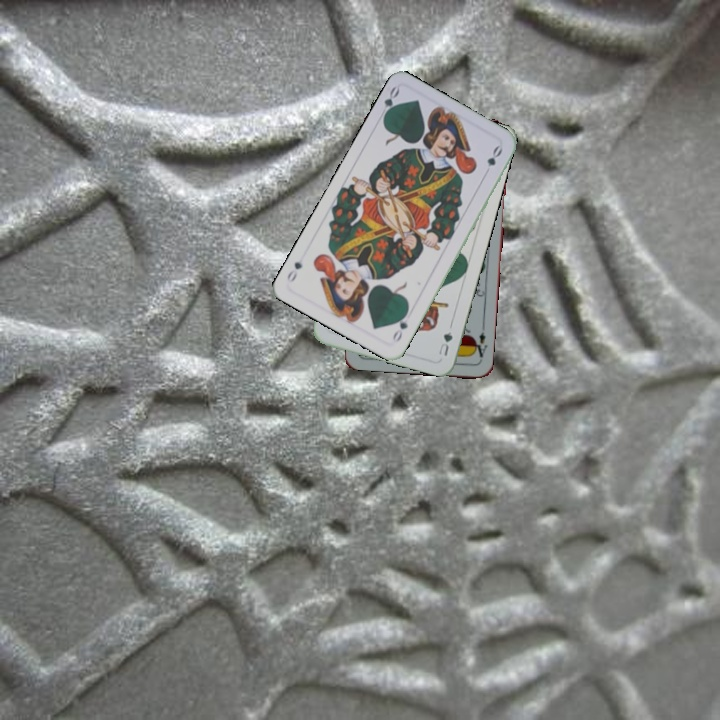EA: (469, 322, 490, 360)
GO: (378, 83, 402, 123), (388, 307, 411, 344)
GU: (435, 327, 455, 358)
